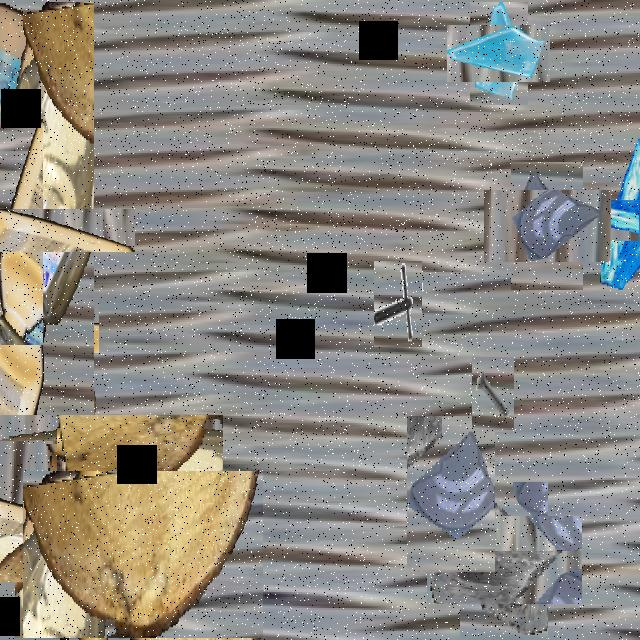glass: (443, 499, 565, 621), (407, 416, 495, 572), (497, 176, 597, 276), (566, 168, 640, 272), (459, 13, 539, 94)
metal: (1, 279, 87, 365), (374, 261, 422, 347), (472, 357, 514, 432)
plastic: (0, 2, 94, 634), (0, 362, 171, 586), (0, 163, 89, 298)
wood: (23, 471, 263, 638), (0, 477, 119, 610)
